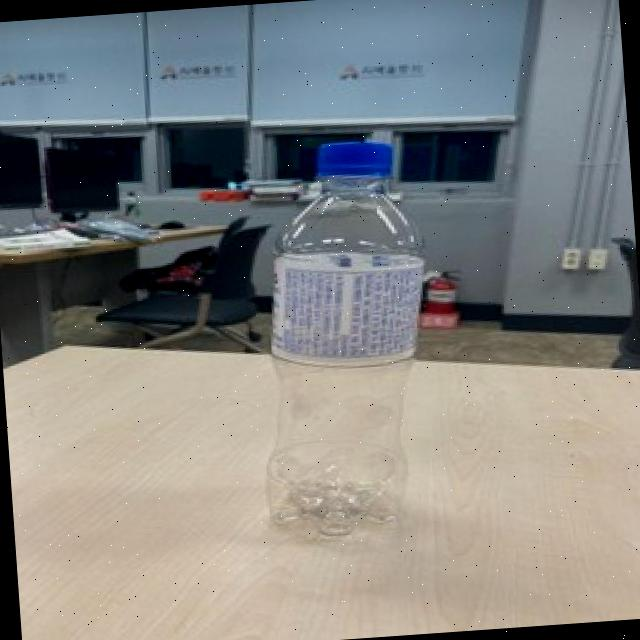bottle: (238, 120, 450, 564)
cap: (312, 133, 398, 195)
label: (236, 239, 449, 373)
